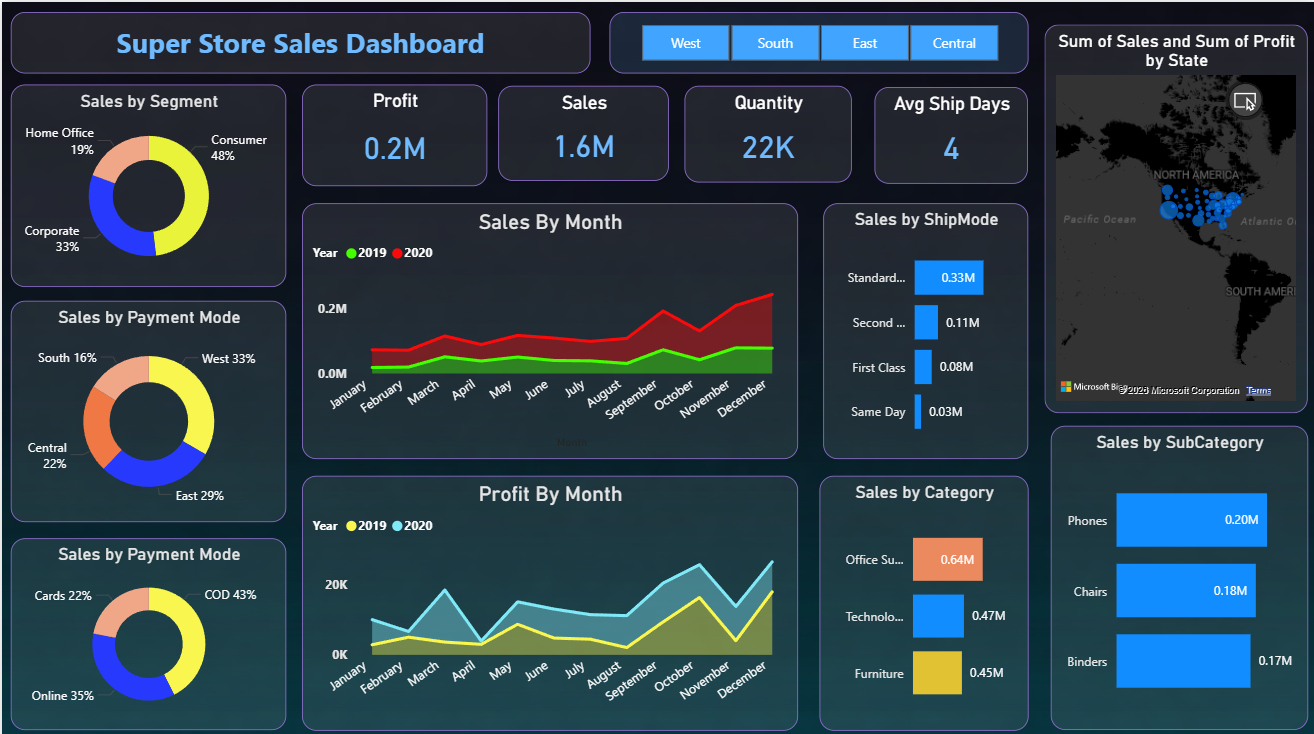

The dashboard page shown, as its layout file describes it:
{"tool":"powerbi","page":{"name":"Page 1","canvas":[1280,720],"ordinal":0},"visuals":[{"type":"clusteredBarChart","title":" Sales by Category","fields":{"Category":["SuperStore_Sales_Dataset.Category"],"Y":["Sum(SuperStore_Sales_Dataset.Sales)"]},"box":[797.5,462.1,203.9,248.5],"z":0},{"type":"clusteredBarChart","title":" Sales by SubCategory","fields":{"Category":["SuperStore_Sales_Dataset.Sub-Category"],"Y":["Sum(SuperStore_Sales_Dataset.Sales)"]},"box":[1023.1,413.8,250.9,296.8],"z":1000},{"type":"clusteredBarChart","title":" Sales by ShipMode","fields":{"Category":["SuperStore_Sales_Dataset.Ship Mode"],"Y":["Sum(SuperStore_Sales_Dataset.Sales)"]},"box":[801.1,196.6,200.3,249.7],"z":2000},{"type":"stackedAreaChart","title":"Sales By Month","fields":{"Y":["Sum(SuperStore_Sales_Dataset.Sales)"],"Series":["SuperStore_Sales_Dataset.Order Date.Variation.Date Hierarchy.Year"],"Category":["SuperStore_Sales_Dataset.Order Date.Variation.Date Hierarchy.Month","SuperStore_Sales_Dataset.Order Date.Variation.Date Hierarchy.Day"]},"box":[293.2,196.6,483.8,249.7],"z":3000},{"type":"stackedAreaChart","title":" Profit By Month","fields":{"Series":["SuperStore_Sales_Dataset.Order Date.Variation.Date Hierarchy.Year"],"Category":["SuperStore_Sales_Dataset.Order Date.Variation.Date Hierarchy.Month","SuperStore_Sales_Dataset.Order Date.Variation.Date Hierarchy.Day"],"Y":["Sum(SuperStore_Sales_Dataset.Profit)"]},"box":[293.2,462.1,483.8,248.5],"z":4000},{"type":"map","fields":{"Category":["SuperStore_Sales_Dataset.State"],"Size":["Sum(SuperStore_Sales_Dataset.Sales)"]},"box":[1017,21.7,257,378.8],"z":5000},{"type":"donutChart","title":" Sales by Segment","fields":{"Category":["SuperStore_Sales_Dataset.Segment"],"Y":["Sum(SuperStore_Sales_Dataset.Sales)"]},"box":[8.4,80.8,269,197.9],"z":6000},{"type":"donutChart","title":" Sales by Payment Mode","fields":{"Category":["SuperStore_Sales_Dataset.Payment Mode"],"Y":["Sum(SuperStore_Sales_Dataset.Sales)"]},"box":[8.4,523.6,269,187],"z":7000},{"type":"slicer","fields":{"Values":["SuperStore_Sales_Dataset.Region"]},"box":[592.4,9.7,409,60.3],"z":8000},{"type":"textbox","box":[8.4,9.7,565.8,60.3],"z":9000},{"type":"card","title":"Sales","fields":{"Values":["Sum(SuperStore_Sales_Dataset.Sales)"]},"box":[483.8,82,166.5,92.9],"z":10000},{"type":"card","title":"Profit","fields":{"Values":["Sum(SuperStore_Sales_Dataset.Profit)"]},"box":[293.2,80.8,181,98.9],"z":11000},{"type":"card","title":"Quantity","fields":{"Values":["Sum(SuperStore_Sales_Dataset.Quantity)"]},"box":[666,82,162.9,94.1],"z":12000},{"type":"card","title":"Avg Ship Days","fields":{"Values":["Avg(SuperStore_Sales_Dataset.Avg_delivery)"]},"box":[851.7,83.2,149.6,94.1],"z":13000},{"type":"donutChart","title":" Sales by Payment Mode","fields":{"Category":["SuperStore_Sales_Dataset.Region"],"Y":["Sum(SuperStore_Sales_Dataset.Sales)"]},"box":[8.4,292,269,216],"z":14000}]}

Visuals, with their boxes in screenshot pixels (x1, y1, x2, y2), scaled from the page's 1280x720 canvas onto the 1314x734 screenshot:
" Sales by Category" clusteredBarChart: box=[819, 471, 1028, 724]
" Sales by SubCategory" clusteredBarChart: box=[1050, 422, 1308, 724]
" Sales by ShipMode" clusteredBarChart: box=[822, 200, 1028, 455]
"Sales By Month" stackedAreaChart: box=[301, 200, 798, 455]
" Profit By Month" stackedAreaChart: box=[301, 471, 798, 724]
map - SuperStore_Sales_Dataset.State x Sum(SuperStore_Sales_Dataset.Sales): box=[1044, 22, 1308, 408]
" Sales by Segment" donutChart: box=[9, 82, 285, 284]
" Sales by Payment Mode" donutChart: box=[9, 534, 285, 724]
slicer - SuperStore_Sales_Dataset.Region: box=[608, 10, 1028, 71]
textbox: box=[9, 10, 589, 71]
"Sales" card: box=[497, 84, 668, 178]
"Profit" card: box=[301, 82, 487, 183]
"Quantity" card: box=[684, 84, 851, 180]
"Avg Ship Days" card: box=[874, 85, 1028, 181]
" Sales by Payment Mode" donutChart: box=[9, 298, 285, 518]
